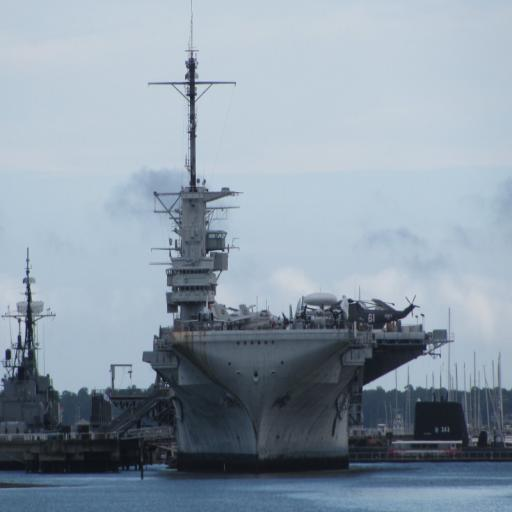Portanaves: (145, 2, 440, 479)
